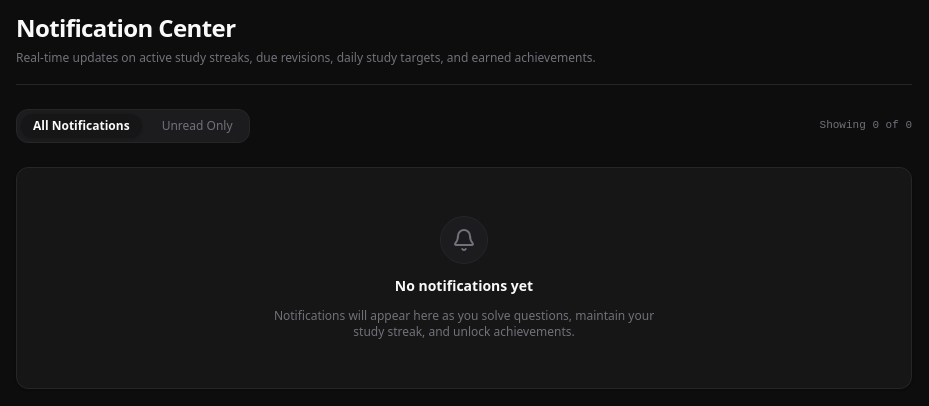
Scenario: NotificationsPage › 5. empty state handles all notifications and unread filter correctly
Expected: the element with test id "notifications-empty" is shown, [274, 216, 654, 340]
Expected: the heading "No notifications yet" is shown, [395, 276, 533, 294]
# Toggle unread filter
Click the button with test id "filter-unread-tab".
click(197, 126)  # box [150, 114, 244, 138]
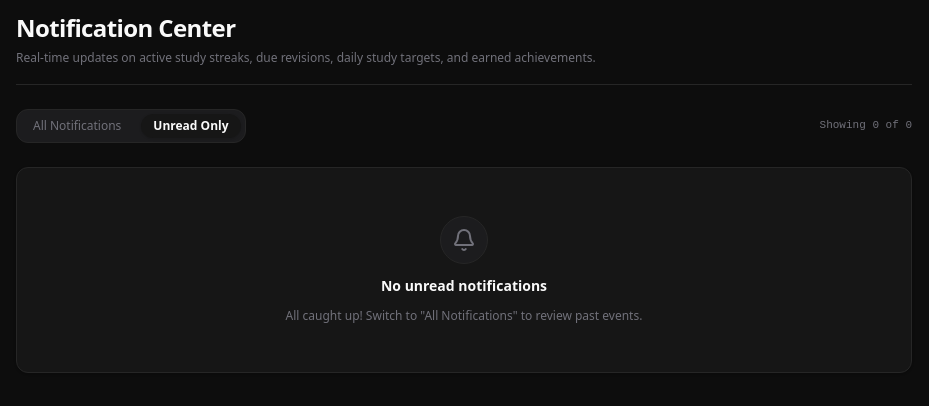
Result: the heading "No unread notifications" is shown at [381, 276, 547, 294]
